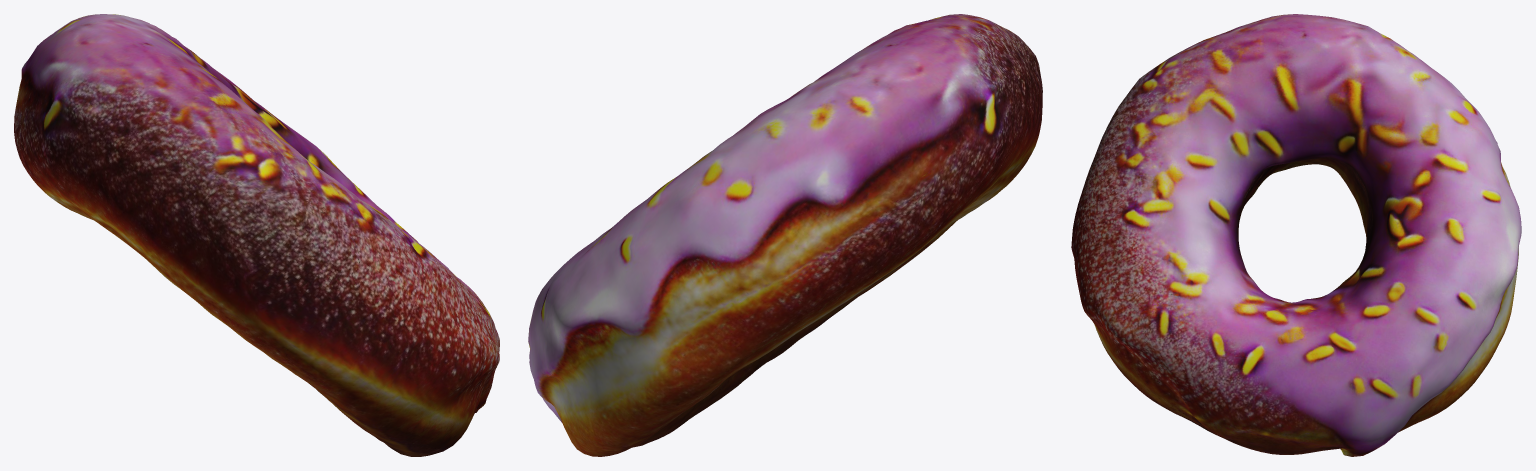
The model's file is Donut.fbx.
3 renders of one model, left to right at view 1: azimuth 30°, elevation 25°; view 2: azimuth 150°, elevation 25°; view 3: azimuth 270°, elevation 25°, orthographic. The views are drawn at different scales.
Visible parts, largest first — view 1: mesh; view 2: mesh; view 3: mesh.
Part boxes in pixels (<box>): mesh: <box>14,14,499,456</box>; mesh: <box>528,14,1042,456</box>; mesh: <box>1071,14,1521,456</box>.
Bounding box in the file's own units: 81.3 × 81.84 × 99.88.
